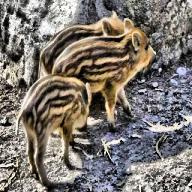boar: (51, 18, 155, 131), (16, 72, 91, 188)
